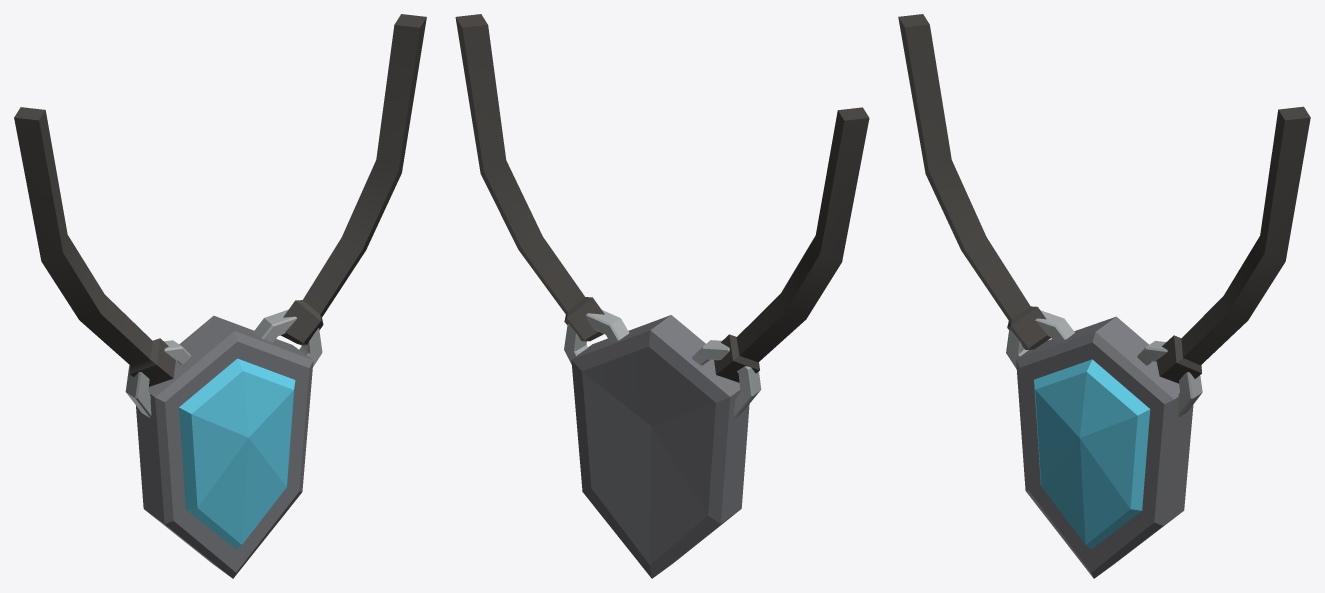
File: amuletPendant2.fbx
The picture shows the model from 3 angles, left to right: view 1: azimuth 30°, elevation 25°; view 2: azimuth 150°, elevation 25°; view 3: azimuth 330°, elevation 25°; orthographic projection.
Visible parts, largest first — view 1: amuletPendant2; view 2: amuletPendant2; view 3: amuletPendant2.
Part boxes in pixels (left/top/right/bottom): amuletPendant2: left=14, top=14, right=426, bottom=578; amuletPendant2: left=455, top=14, right=869, bottom=578; amuletPendant2: left=898, top=14, right=1310, bottom=578.
Size of the model in its own units: 1.89 by 2.2 by 0.2989.
Materials: 1 (1 with a texture image).
